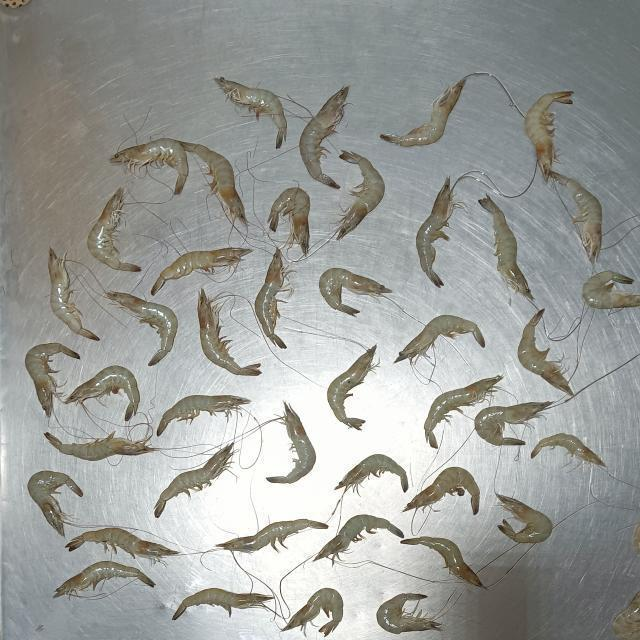shrimp: (179, 141, 247, 227), (381, 78, 466, 146), (155, 443, 233, 517), (425, 376, 502, 447), (479, 196, 531, 299), (198, 289, 259, 375), (108, 292, 177, 365), (300, 86, 348, 187), (216, 78, 286, 147), (416, 178, 459, 286), (518, 309, 572, 394), (49, 248, 98, 339), (152, 248, 251, 293), (334, 151, 384, 239), (88, 188, 140, 271), (110, 138, 187, 194), (553, 173, 602, 260), (327, 345, 378, 428), (395, 315, 484, 362), (65, 365, 139, 421), (401, 537, 483, 587), (314, 515, 399, 563), (525, 91, 571, 179), (267, 402, 315, 483), (25, 343, 79, 415), (157, 395, 250, 435), (67, 527, 177, 560), (255, 249, 292, 347), (54, 561, 153, 597), (216, 519, 327, 551), (403, 467, 479, 513), (28, 471, 82, 535), (319, 268, 391, 315), (475, 402, 551, 445), (173, 588, 274, 619), (46, 432, 155, 459), (336, 454, 407, 494), (283, 588, 343, 635), (269, 187, 309, 255), (497, 494, 552, 543), (377, 592, 440, 633), (532, 433, 605, 466), (583, 271, 639, 307), (613, 593, 639, 639), (634, 523, 639, 552)
